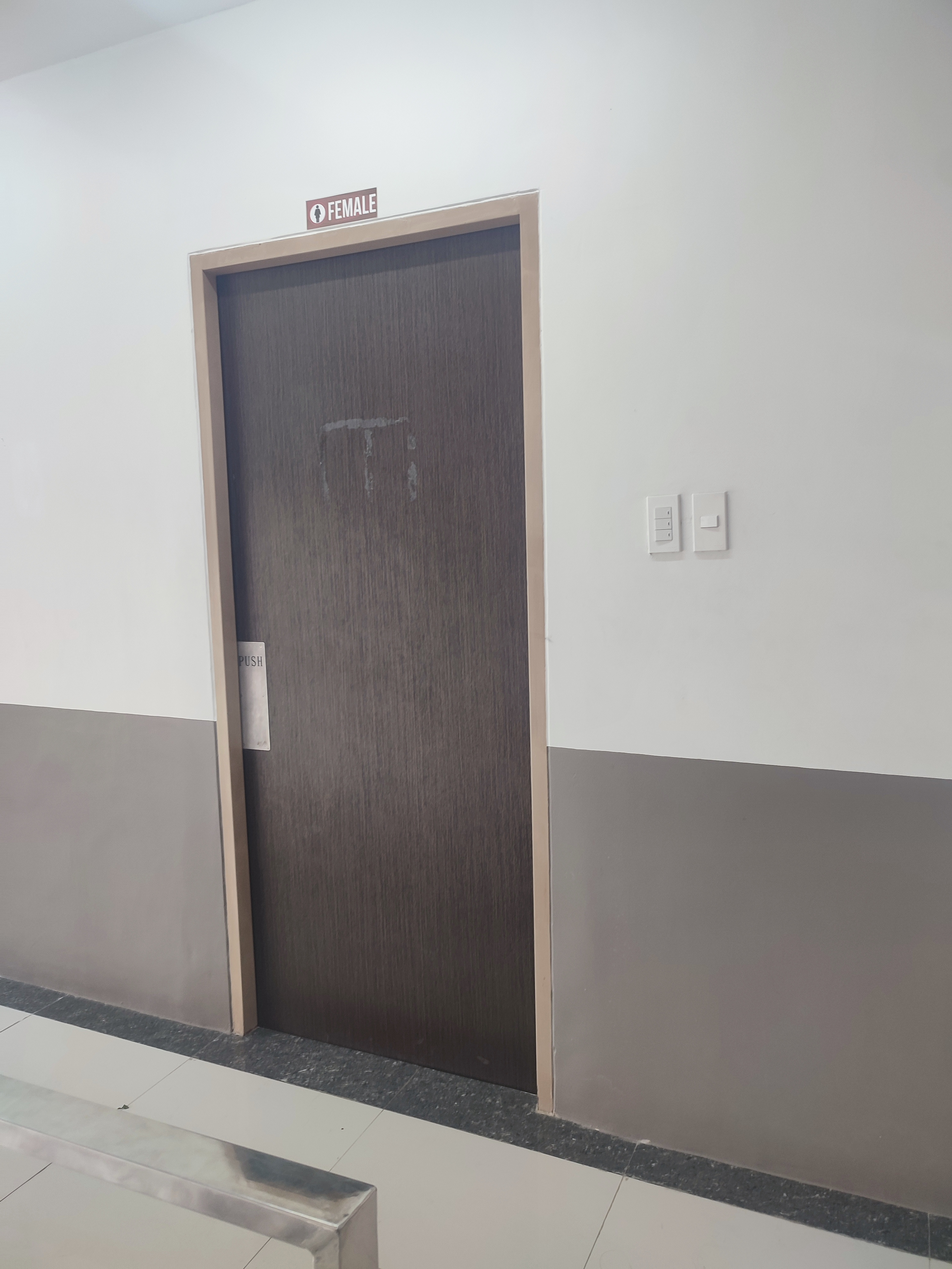door: (185, 192, 554, 1110)
